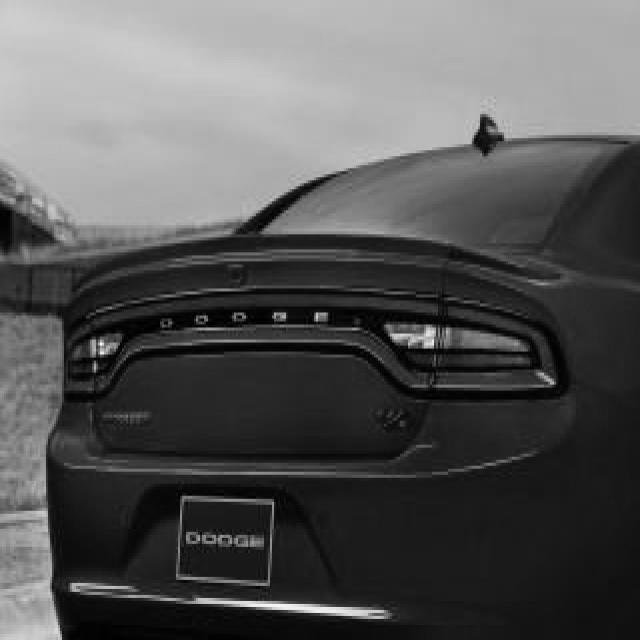Car: (47, 122, 640, 636)
